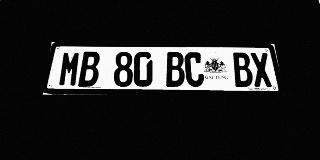0: (133, 52, 152, 87)
8: (113, 52, 134, 87)
B: (78, 51, 101, 87), (231, 52, 254, 87), (166, 52, 185, 87)
C: (184, 52, 205, 87)
M: (58, 51, 81, 87)
X: (249, 53, 273, 87)
